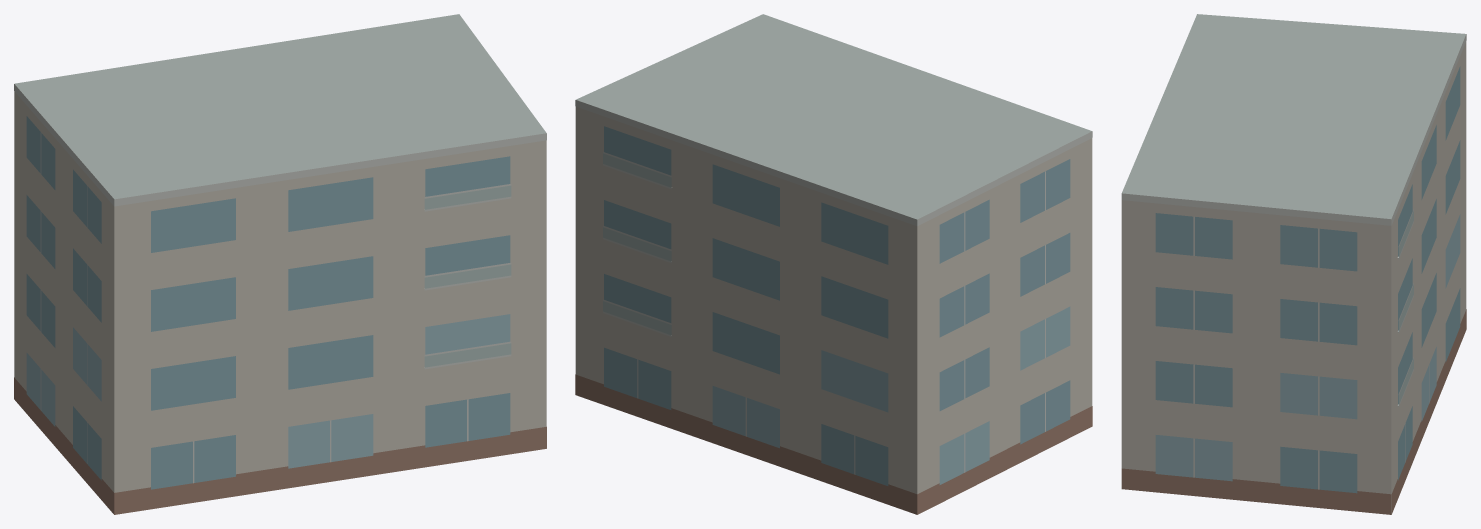
The model's file is survey-upis-33021395.glb.
3 views of the same model, side by side, from view 1: azimuth 30°, elevation 25°; view 2: azimuth 150°, elevation 25°; view 3: azimuth 270°, elevation 25° (orthographic). The views are drawn at different scales.
Parts seen in each view (by area): view 1: survey-upis-33021395.tmp; view 2: survey-upis-33021395.tmp; view 3: survey-upis-33021395.tmp.
Part boxes in pixels (x1,y1,x2,y2): survey-upis-33021395.tmp: (14,14,546,514); survey-upis-33021395.tmp: (575,14,1092,514); survey-upis-33021395.tmp: (1121,14,1466,514).
Bounding box in the file's own units: 16.08 × 10.8 × 11.42.
